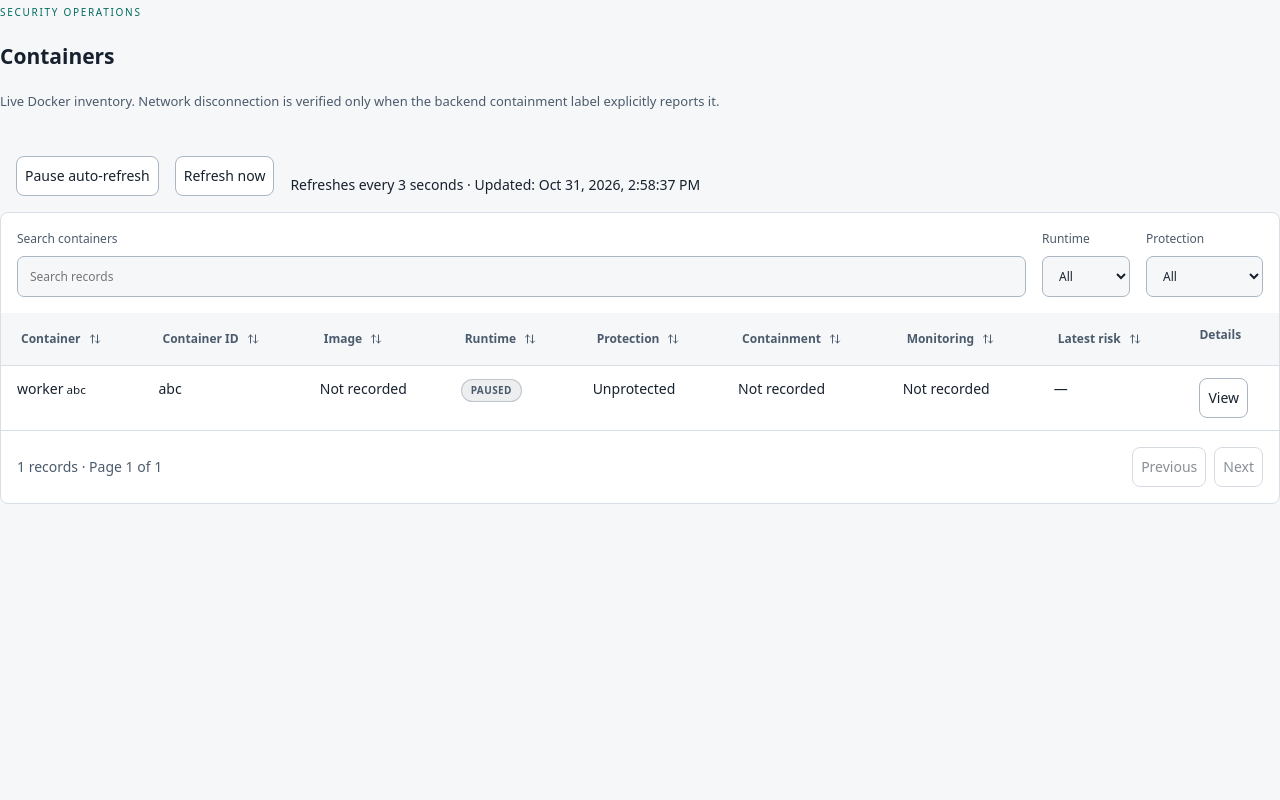
Scenario: opens a separate confirmation before any restore action
This screenshot has width=1280, height=800.
Click the button with aria-label "View record abc" at (1224, 398), box [1199, 378, 1248, 418]
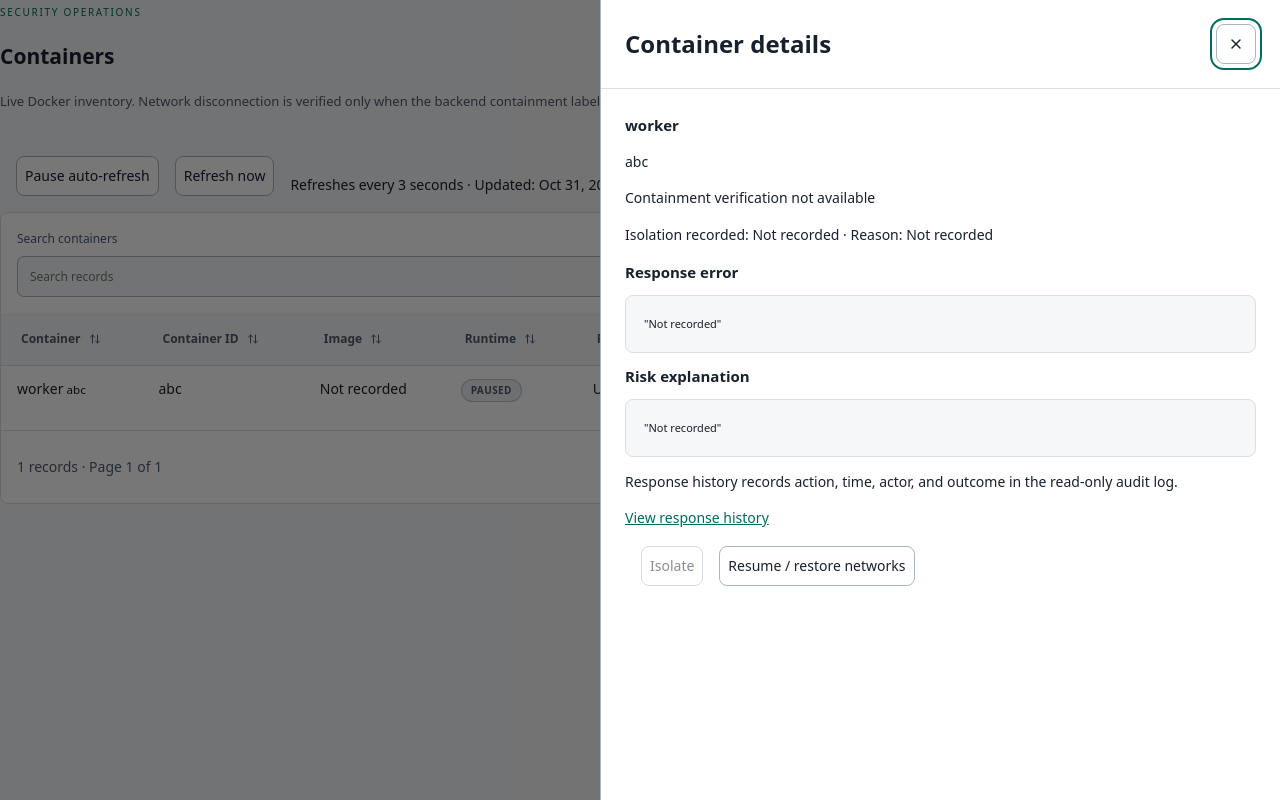
Click the button "Resume / restore networks" at (817, 566), box [719, 546, 914, 586]
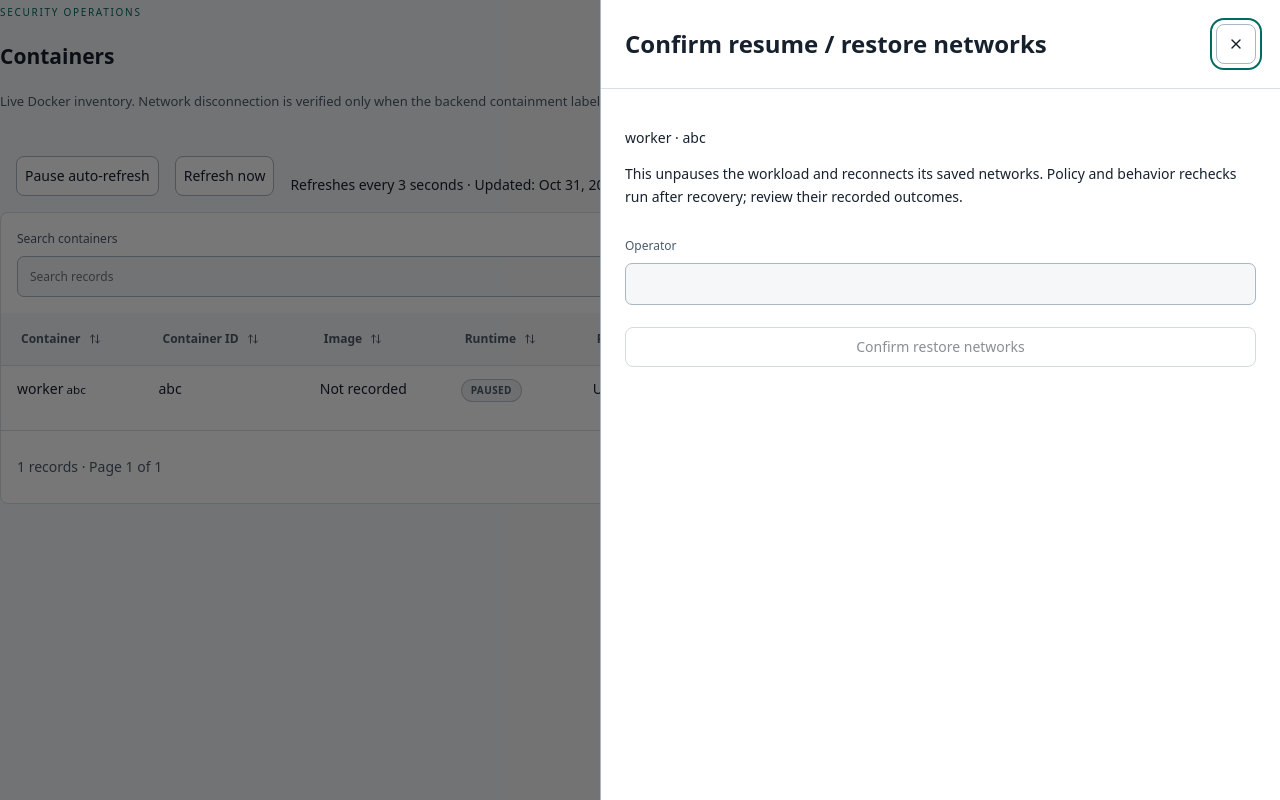
Check: the heading "Confirm resume / restore networks" is shown, box [625, 25, 1047, 63]
Check: the button "Confirm restore networks" is disabled, box [625, 326, 1256, 367]
